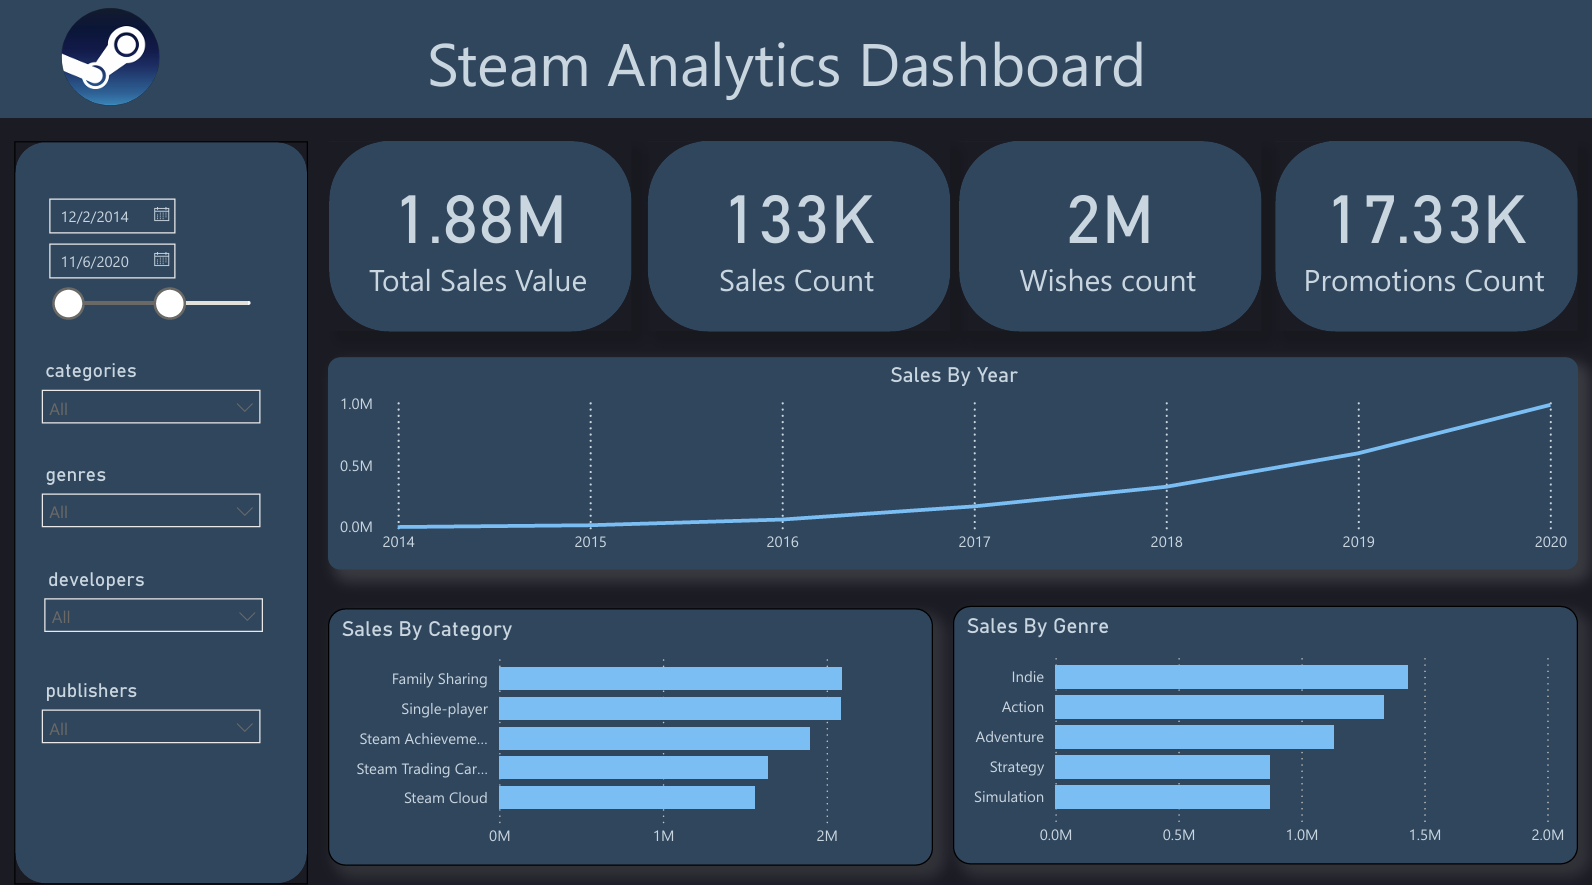

Layout of this report page (visuals, bound fields, positions):
{"tool":"powerbi","page":{"name":"Page 1","canvas":[1280,720],"ordinal":0},"visuals":[{"type":"shape","box":[0,0,1280.6,96.9],"z":0},{"type":"shape","box":[264.4,115.6,241.7,152.4],"z":0,"group":"g1"},{"type":"shape","box":[520,115.8,241.7,152.4],"z":0,"group":"g2"},{"type":"shape","box":[768.8,115.8,241.7,152.4],"z":0,"group":"g3"},{"type":"shape","box":[1022,115.8,241.7,152.4],"z":0,"group":"g4"},{"type":"barChart","title":"Sales By Category","fields":{"Category":["category_lookup.categories"],"Y":["Sum(sales_fact.total_price)"]},"box":[264,490,484.4,206.4],"z":1000},{"type":"lineChart","title":"Sales By Year","fields":{"Y":["Sum(sales_fact.total_price)"],"Category":["date_dim.year"]},"box":[264,289.3,999.7,169.9],"z":2000},{"type":"card","fields":{"Values":["Sum(sales_fact.subtotal)"]},"box":[256.5,96.7,256.5,148.7],"z":3000,"group":"g1"},{"type":"card","fields":{"Values":["sales_fact.Distinct Sales Combinations"]},"box":[512.1,96.9,256.5,148.7],"z":3000,"group":"g2"},{"type":"card","fields":{"Values":["wishlist_fact.Distinct Wishlist Combinations"]},"box":[760.9,96.9,256.5,148.7],"z":3000,"group":"g3"},{"type":"card","fields":{"Values":["Count(sales_fact.promotion_id)"]},"box":[1014.1,96.9,256.5,148.7],"z":3000,"group":"g4"},{"type":"shape","box":[13.4,115.5,235,595],"z":3000},{"type":"slicer","fields":{"Values":["date_dim.date"]},"box":[28.1,151.6,195.2,137.6],"z":4000},{"type":"slicer","fields":{"Values":["category_lookup.categories"]},"box":[25.3,285,195.2,74.4],"z":5000},{"type":"slicer","fields":{"Values":["genre_lookup.genres"]},"box":[25.3,367.9,195.2,74.4],"z":6000},{"type":"slicer","fields":{"Values":["developer_lookup.developers"]},"box":[26.7,452.1,195.2,74.4],"z":7000},{"type":"slicer","fields":{"Values":["publisher_lookup.publishers"]},"box":[25.3,540.6,195.2,74.4],"z":8000},{"type":"barChart","title":"Sales By Genre","fields":{"Y":["Sum(sales_fact.total_price)"],"Category":["genre_lookup.genres"]},"box":[763.9,488.4,500.5,207.4],"z":9000},{"type":"actionButton","box":[25.2,0,129.5,96.6],"z":10000},{"type":"textbox","box":[172.7,15.4,916.9,81.4],"z":11000},{"type":"group","id":"g1","title":"Group 1","box":[256.5,96.7,256.5,171.3],"z":12000},{"type":"textbox","box":[256.5,204.5,254.1,50.8],"z":12000,"group":"g1"},{"type":"textbox","box":[512.1,204.7,254.1,50.8],"z":12000,"group":"g2"},{"type":"textbox","box":[760.9,204.7,254.1,50.8],"z":12000,"group":"g3"},{"type":"textbox","box":[1014.1,204.7,254.1,50.8],"z":12000,"group":"g4"},{"type":"group","id":"g2","title":"Group 1","box":[512.1,96.9,257.5,170.7],"z":13000},{"type":"group","id":"g3","title":"Group 1","box":[760.9,96.9,257.5,170.7],"z":14000},{"type":"group","id":"g4","title":"Group 1","box":[1014.1,96.9,257.5,170.7],"z":15000}]}

Visuals, with their boxes in screenshot pixels (x1, y1, x2, y2), scaled from the page's 1280x720 canvas onto the 1592x885 screenshot:
shape: detection(0, 0, 1591, 119)
shape: detection(329, 142, 629, 329)
shape: detection(647, 142, 947, 330)
shape: detection(956, 142, 1257, 330)
shape: detection(1271, 142, 1572, 330)
"Sales By Category" barChart: detection(328, 602, 931, 856)
"Sales By Year" lineChart: detection(328, 356, 1572, 564)
card - Sum(sales_fact.subtotal): detection(319, 119, 638, 302)
card - sales_fact.Distinct Sales Combinations: detection(637, 119, 956, 302)
card - wishlist_fact.Distinct Wishlist Combinations: detection(946, 119, 1265, 302)
card - Count(sales_fact.promotion_id): detection(1261, 119, 1580, 302)
shape: detection(17, 142, 309, 873)
slicer - date_dim.date: detection(35, 186, 278, 355)
slicer - category_lookup.categories: detection(31, 350, 274, 442)
slicer - genre_lookup.genres: detection(31, 452, 274, 544)
slicer - developer_lookup.developers: detection(33, 556, 276, 647)
slicer - publisher_lookup.publishers: detection(31, 664, 274, 756)
"Sales By Genre" barChart: detection(950, 600, 1573, 855)
actionButton: detection(31, 0, 192, 119)
textbox: detection(215, 19, 1355, 119)
"Group 1" group: detection(319, 119, 638, 329)
textbox: detection(319, 251, 635, 314)
textbox: detection(637, 252, 953, 314)
textbox: detection(946, 252, 1262, 314)
textbox: detection(1261, 252, 1577, 314)
"Group 1" group: detection(637, 119, 957, 329)
"Group 1" group: detection(946, 119, 1267, 329)
"Group 1" group: detection(1261, 119, 1582, 329)
